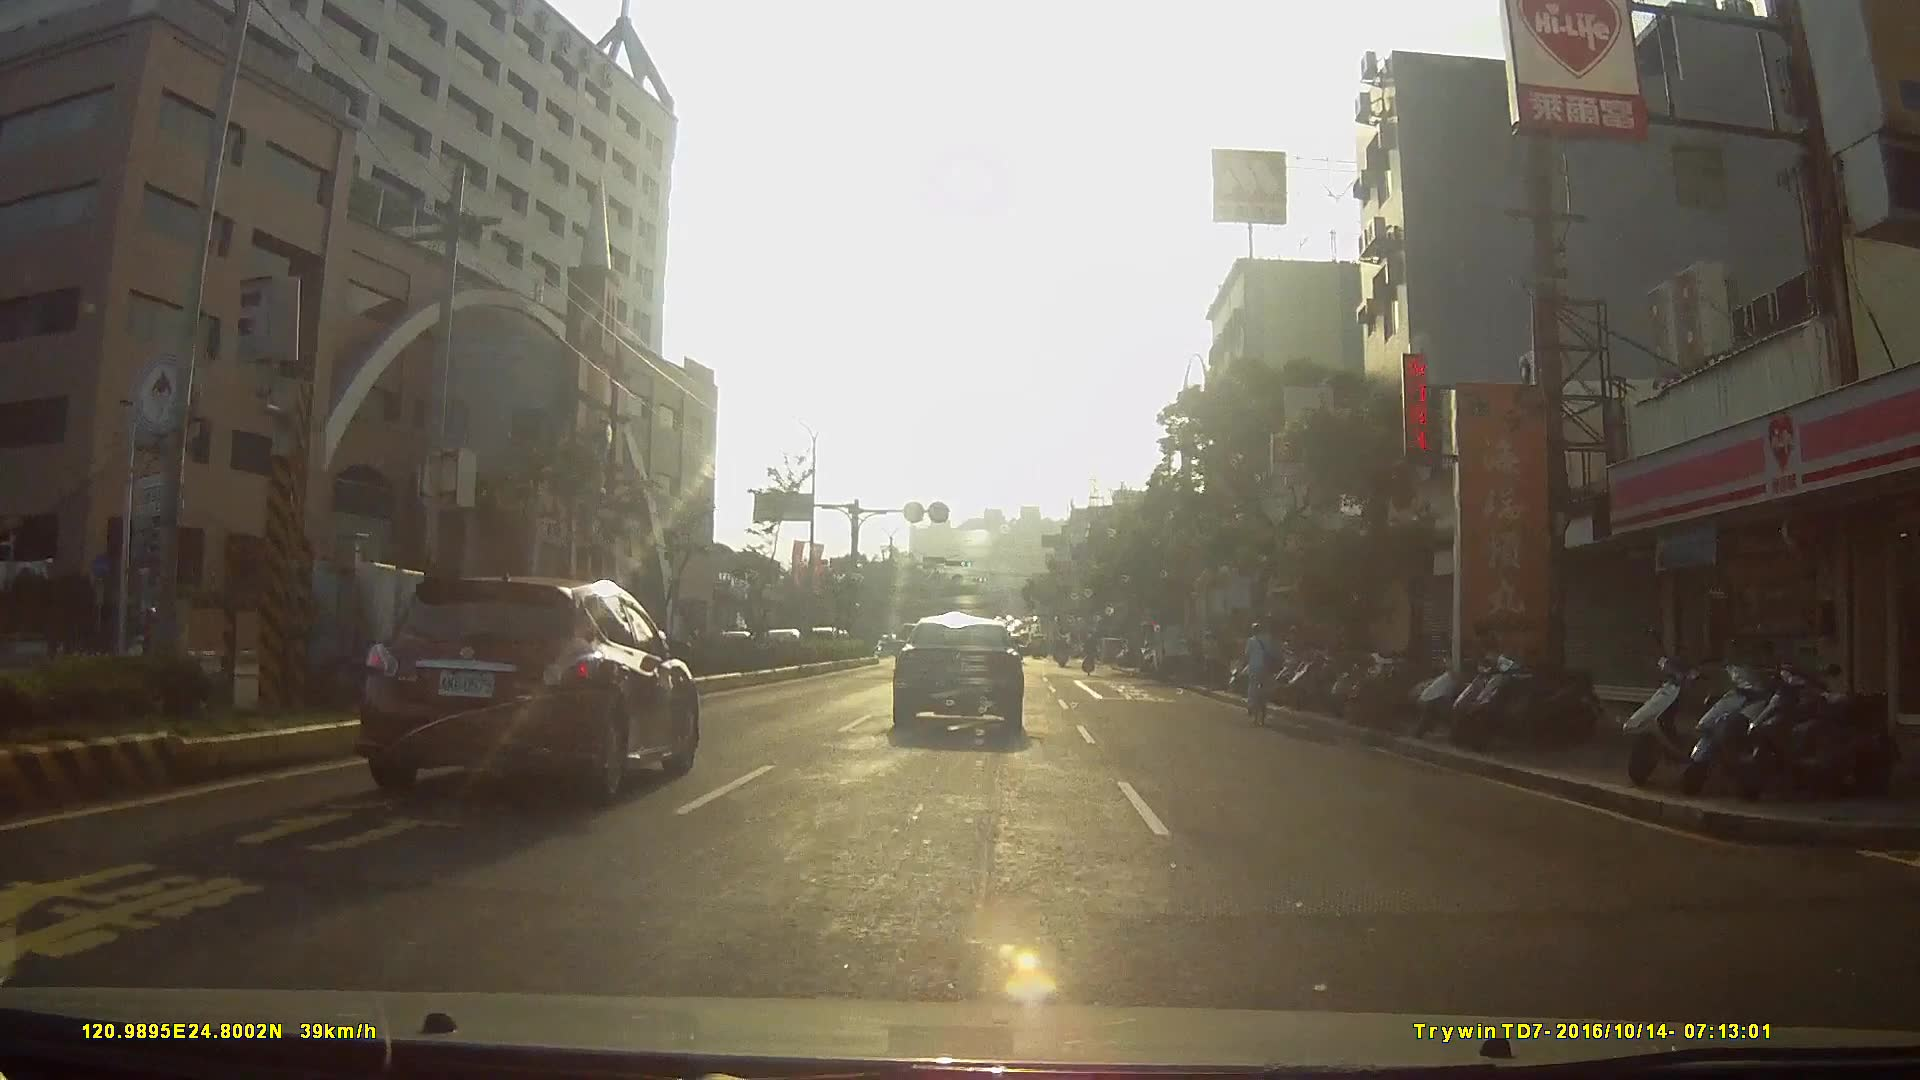rider: (119, 604, 184, 689), (1241, 621, 1282, 726)
vehicle: (356, 573, 713, 809), (887, 615, 1040, 748), (1148, 619, 1214, 683), (763, 607, 822, 662)
